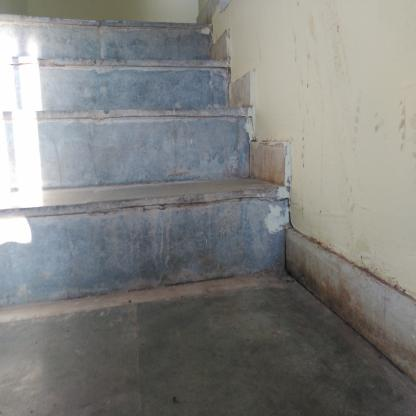stairs: (1, 10, 212, 302)
